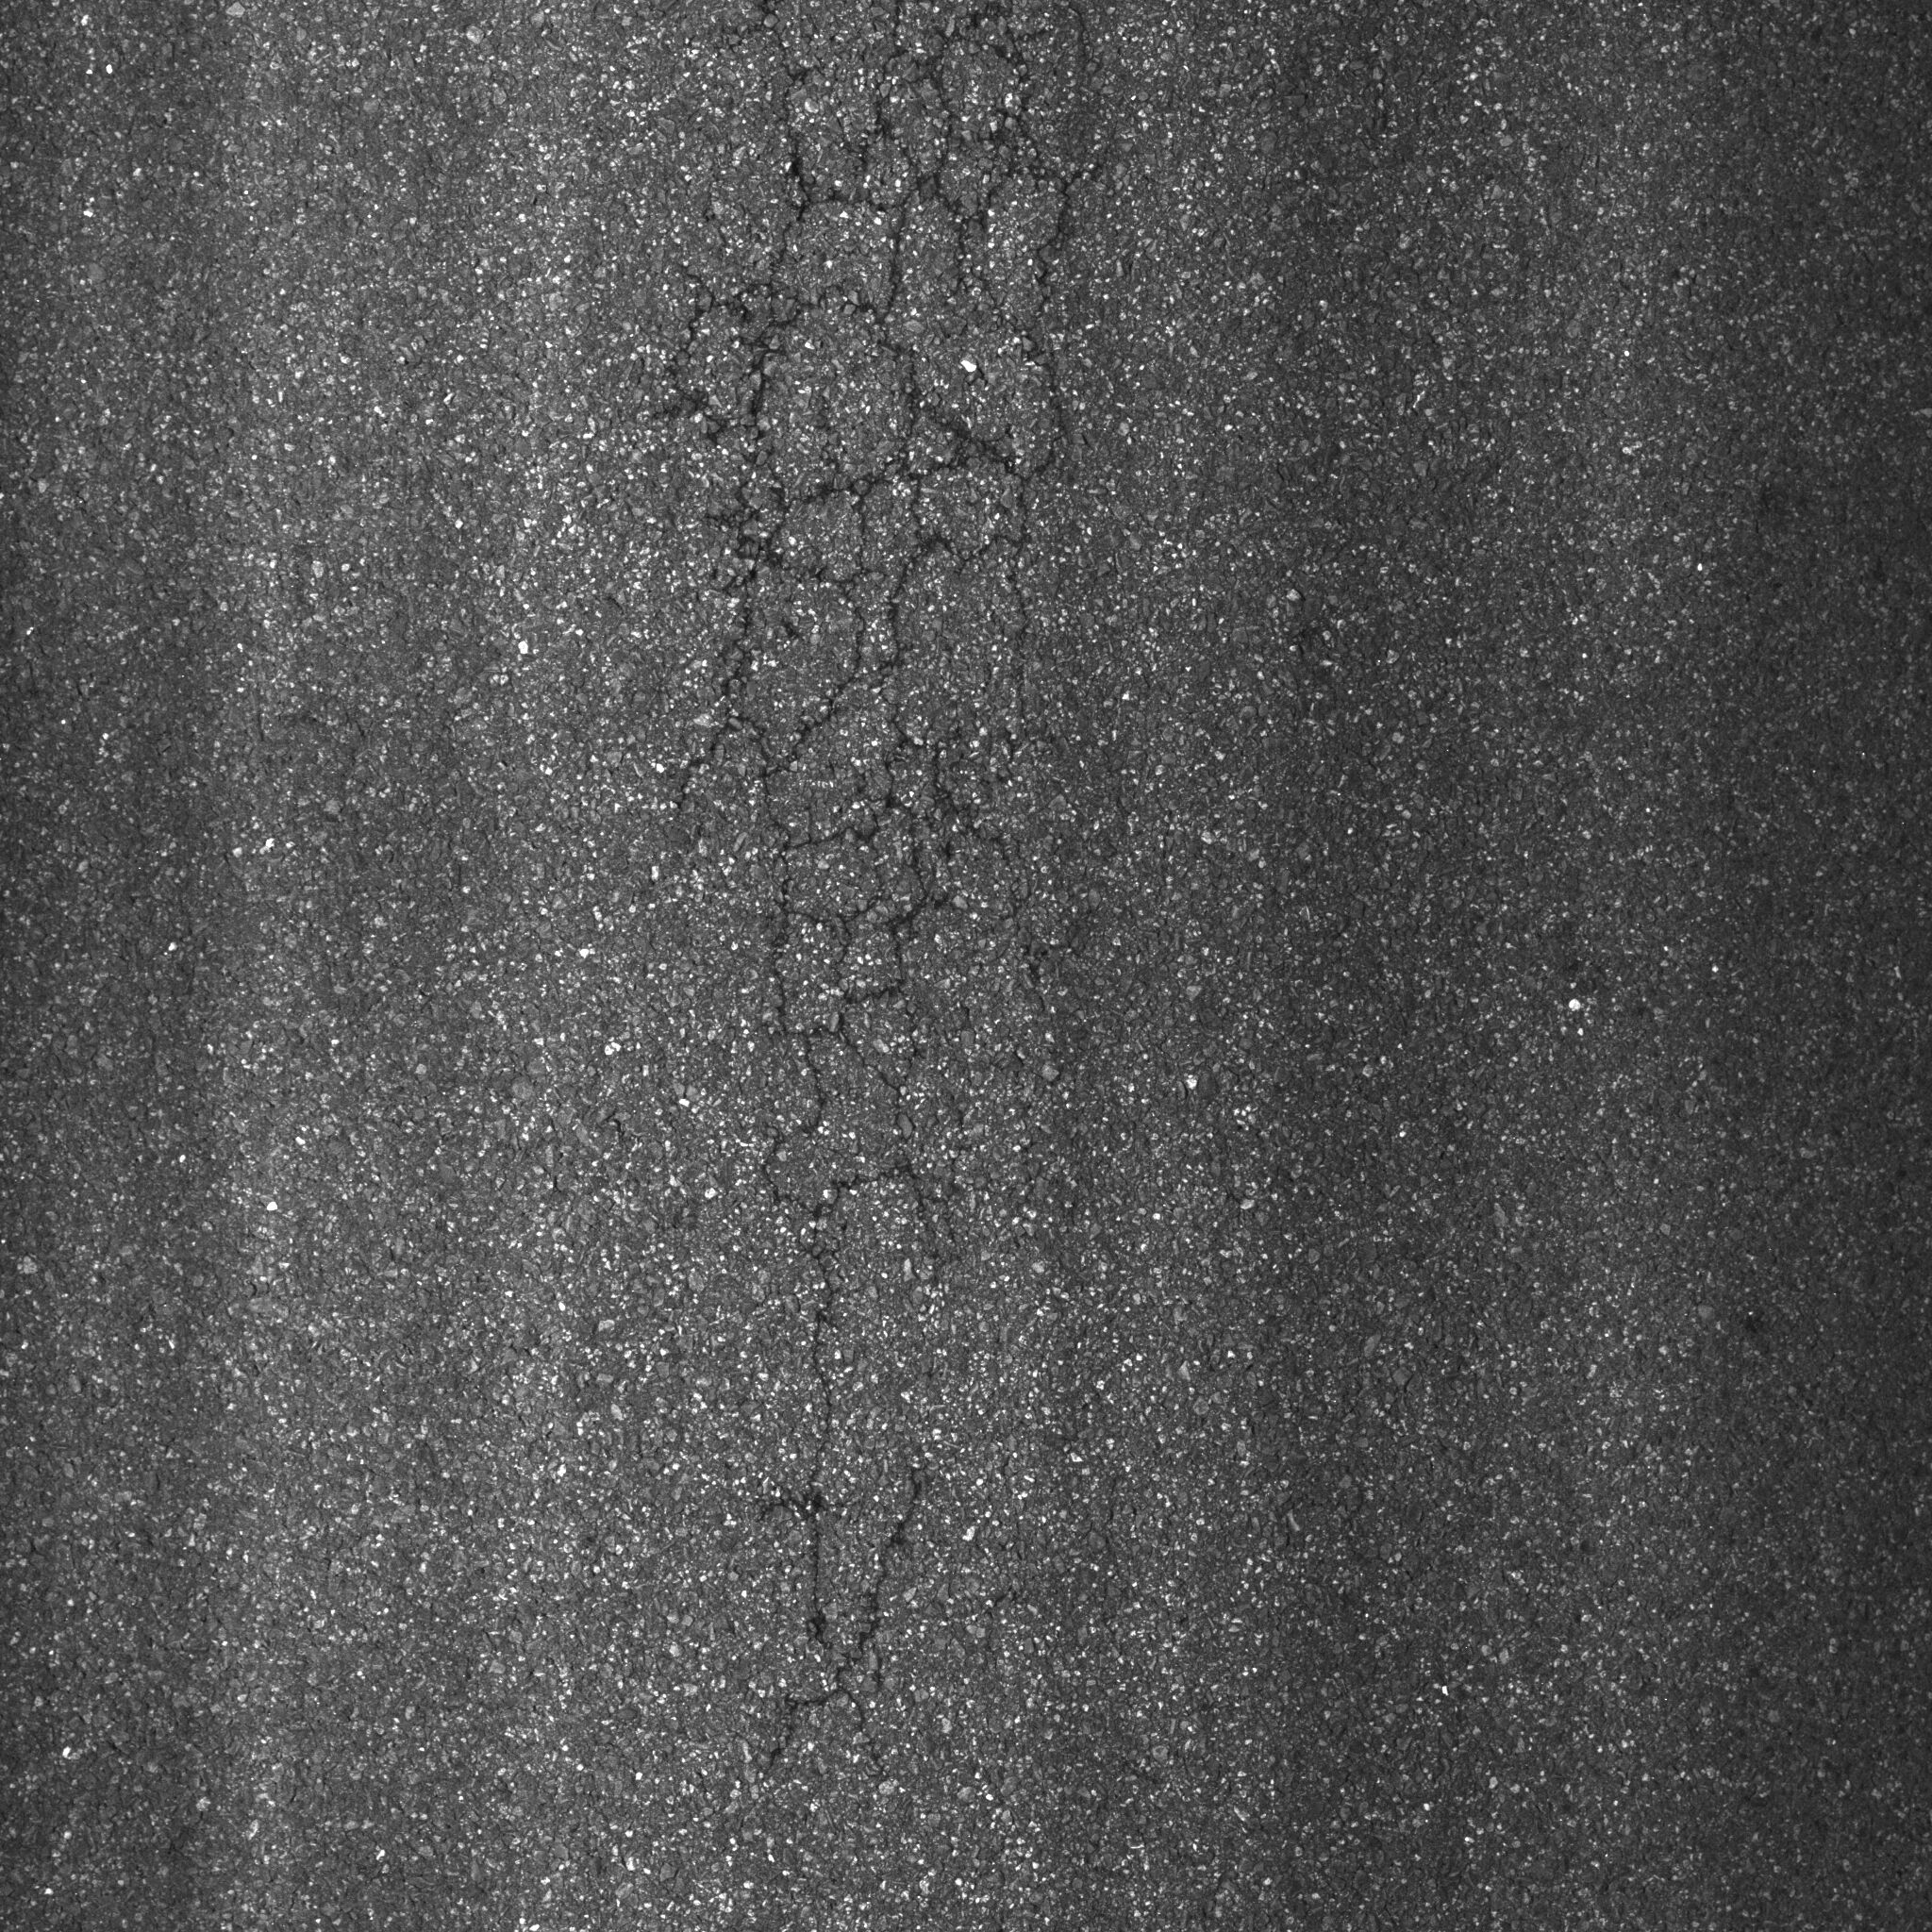alligator: (587, 5, 1240, 1794)
